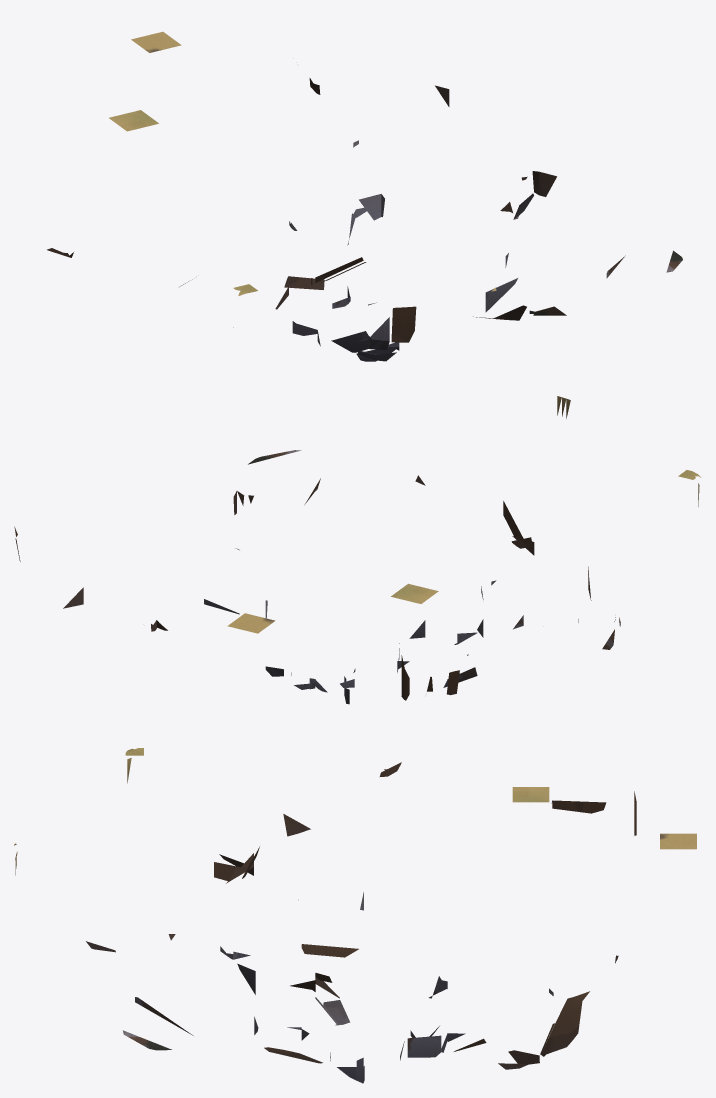
3 views of the same model, one above another, from view 1: azimuth 30°, elevation 25°; view 2: azimuth 150°, elevation 25°; view 3: azimuth 270°, elevation 25° (orthographic). The views are drawn at different scales.
Parts seen in each view (by area): view 1: Columns_-1_-2_-2_000, Dirt_-2_-5_0_011_001, Grass_-1_4_0_000, Grass_-3_2_0_100, Columns_0_1_-1; view 2: Grass_-1_4_0_000, Grass_-3_2_0_100; view 3: Dirt_3_2_0, Dirt_4_2_-1, Columns_0_0_-2_110, Grass_-1_4_0_000, Grass_-3_2_0_100, Dirt_-4_2_0_111.
Part boxes in pixels (x1,y1,x2,y2): Columns_-1_-2_-2_000: (331, 317, 389, 352); Dirt_-2_-5_0_011_001: (391, 306, 416, 342); Grass_-1_4_0_000: (131, 31, 181, 52); Grass_-3_2_0_100: (109, 110, 158, 131); Columns_0_1_-1: (349, 194, 384, 239); Grass_-1_4_0_000: (227, 613, 275, 633); Grass_-3_2_0_100: (391, 583, 438, 603); Dirt_3_2_0: (554, 991, 589, 1051); Dirt_4_2_-1: (498, 1021, 556, 1069); Columns_0_0_-2_110: (407, 1035, 441, 1057); Grass_-1_4_0_000: (660, 833, 696, 849); Grass_-3_2_0_100: (512, 787, 549, 802); Dirt_-4_2_0_111: (551, 800, 606, 813).
Bounding box in the file's own units: 591 × 204 × 597.
63 materials, 63 textured.
